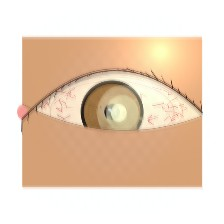corneal_ulcer: (93, 90, 152, 137)
